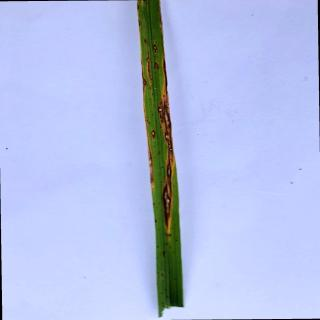Blast: (161, 183, 173, 234), (147, 139, 155, 189), (162, 104, 172, 132), (165, 153, 173, 186), (164, 132, 173, 152), (146, 50, 152, 79), (152, 61, 160, 70), (150, 129, 157, 138), (142, 76, 147, 88), (152, 44, 158, 53), (157, 106, 163, 113), (138, 17, 141, 31), (143, 37, 148, 44), (137, 3, 140, 11)
